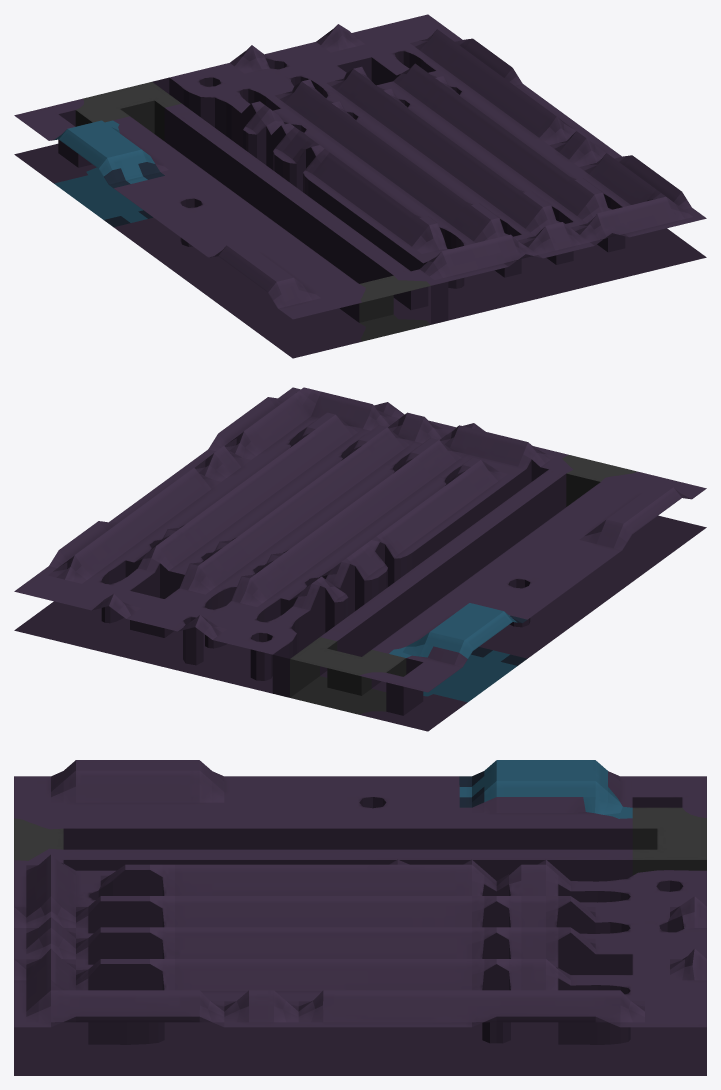
Rendered from delbld-hull-574.glb.
The picture shows the model from 3 angles, top to bottom: view 1: azimuth 30°, elevation 25°; view 2: azimuth 150°, elevation 25°; view 3: azimuth 270°, elevation 25°; orthographic projection. The views are drawn at different scales.
Visible parts, largest first — view 1: delbld-hull-574; view 2: delbld-hull-574; view 3: delbld-hull-574.
Boxes of the visible parts, x1,y1,x2,y2 form: delbld-hull-574: (14, 14, 706, 358); delbld-hull-574: (14, 387, 706, 731); delbld-hull-574: (14, 760, 706, 1075).
Size of the model in its own units: 2 by 0.26 by 2.33.
4 materials, 4 textured.
